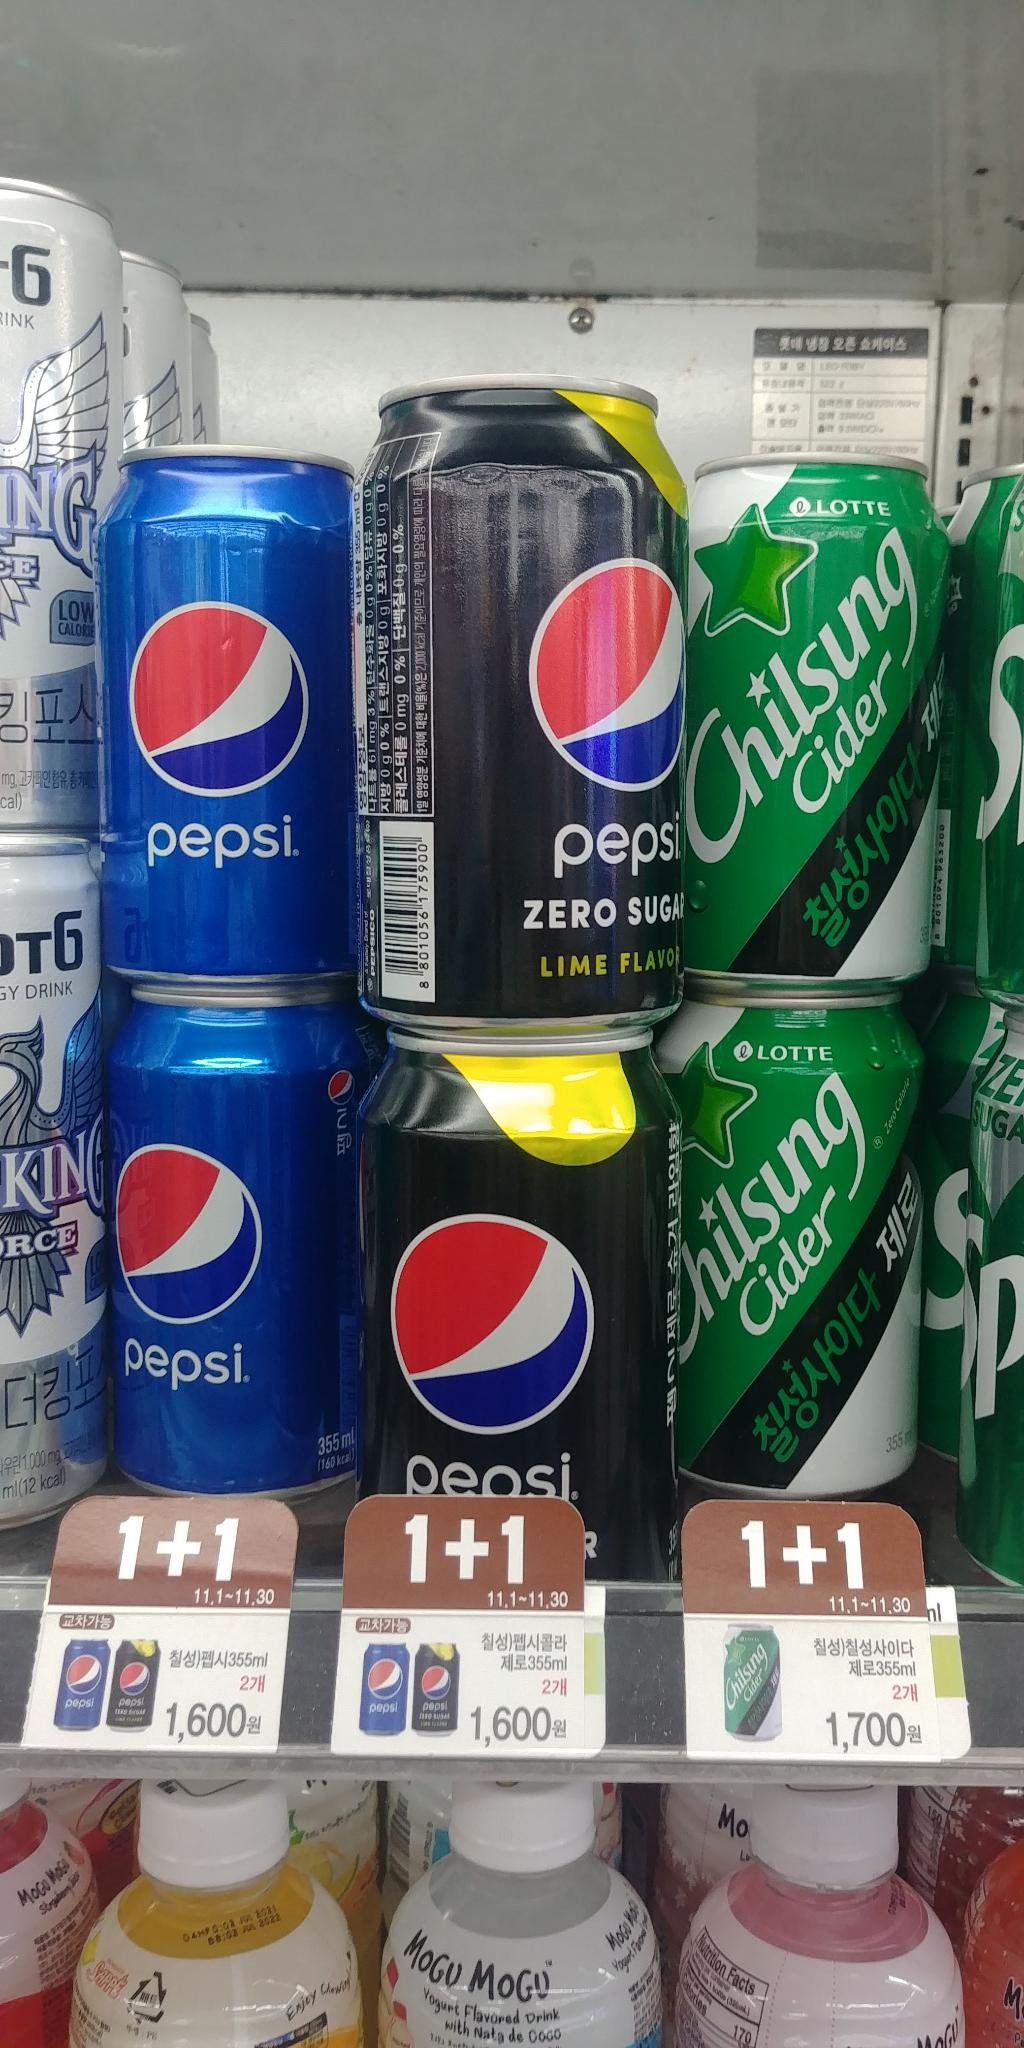pepsi_zero: (341, 362, 711, 1048), (360, 1011, 682, 1599)
